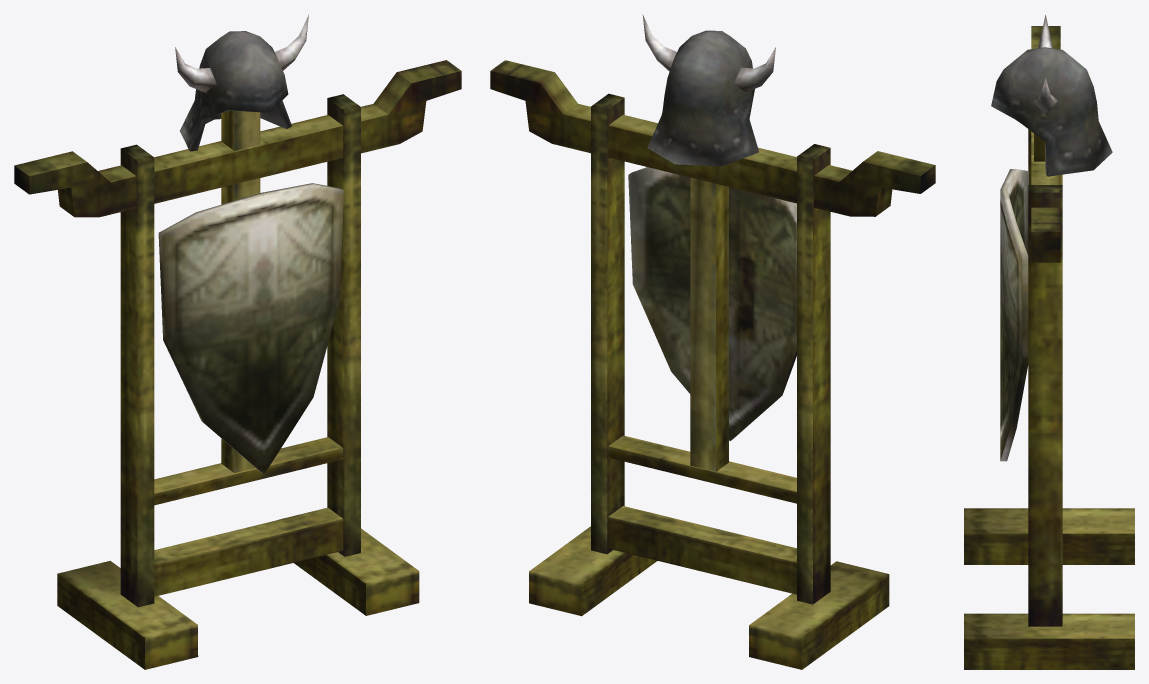
Rendered from b_general_obj_33.fbx.
The picture shows the model from 3 angles, left to right: view 1: azimuth 30°, elevation 25°; view 2: azimuth 150°, elevation 25°; view 3: azimuth 270°, elevation 25°; orthographic projection. The views are drawn at different scales.
Visible parts, largest first — view 1: Mesh04; view 2: Mesh04; view 3: Mesh04.
Boxes of the visible parts, <box> form: Mesh04: <box>14,14,461,669</box>; Mesh04: <box>490,14,935,669</box>; Mesh04: <box>964,15,1134,669</box>.
Bounding box in the file's own units: 1.94 × 2.46 × 0.6819.
